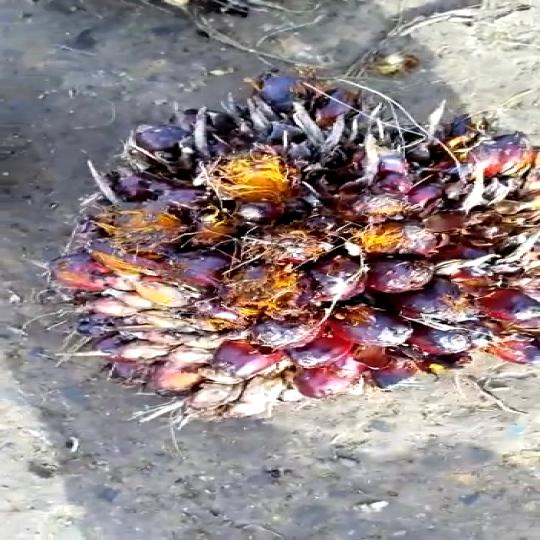masak: (53, 54, 540, 415)
